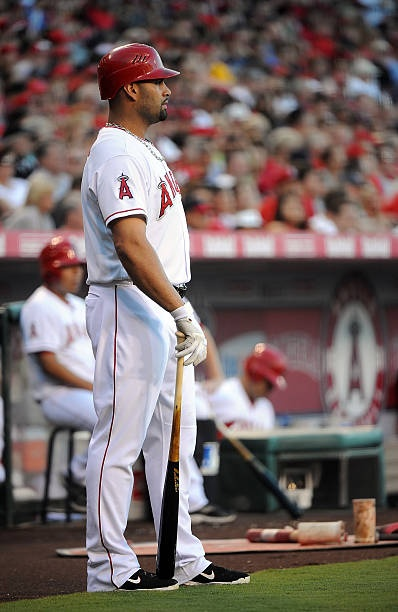bita: (155, 329, 191, 576)
